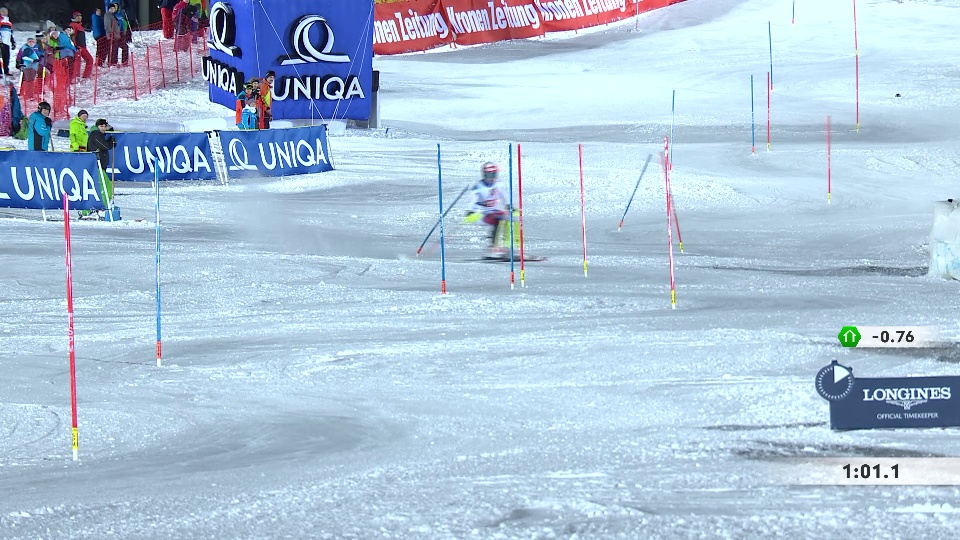kronenzeitung: (453, 1, 537, 46), (372, 4, 443, 54), (544, 1, 628, 33)
longines: (861, 385, 951, 416)
uniqa: (271, 9, 368, 104), (1, 153, 111, 209), (221, 129, 333, 178), (201, 1, 247, 102), (119, 134, 206, 177)
